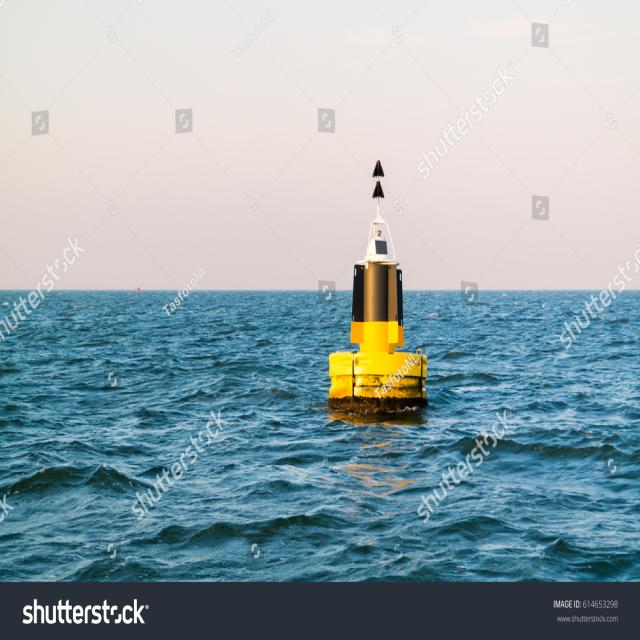marque: (318, 132, 441, 435)
